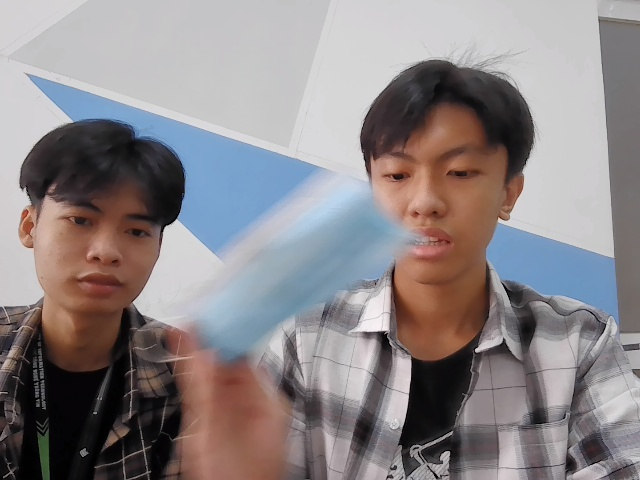human: (353, 50, 549, 290), (20, 108, 182, 310)
mask: (187, 163, 417, 371)
